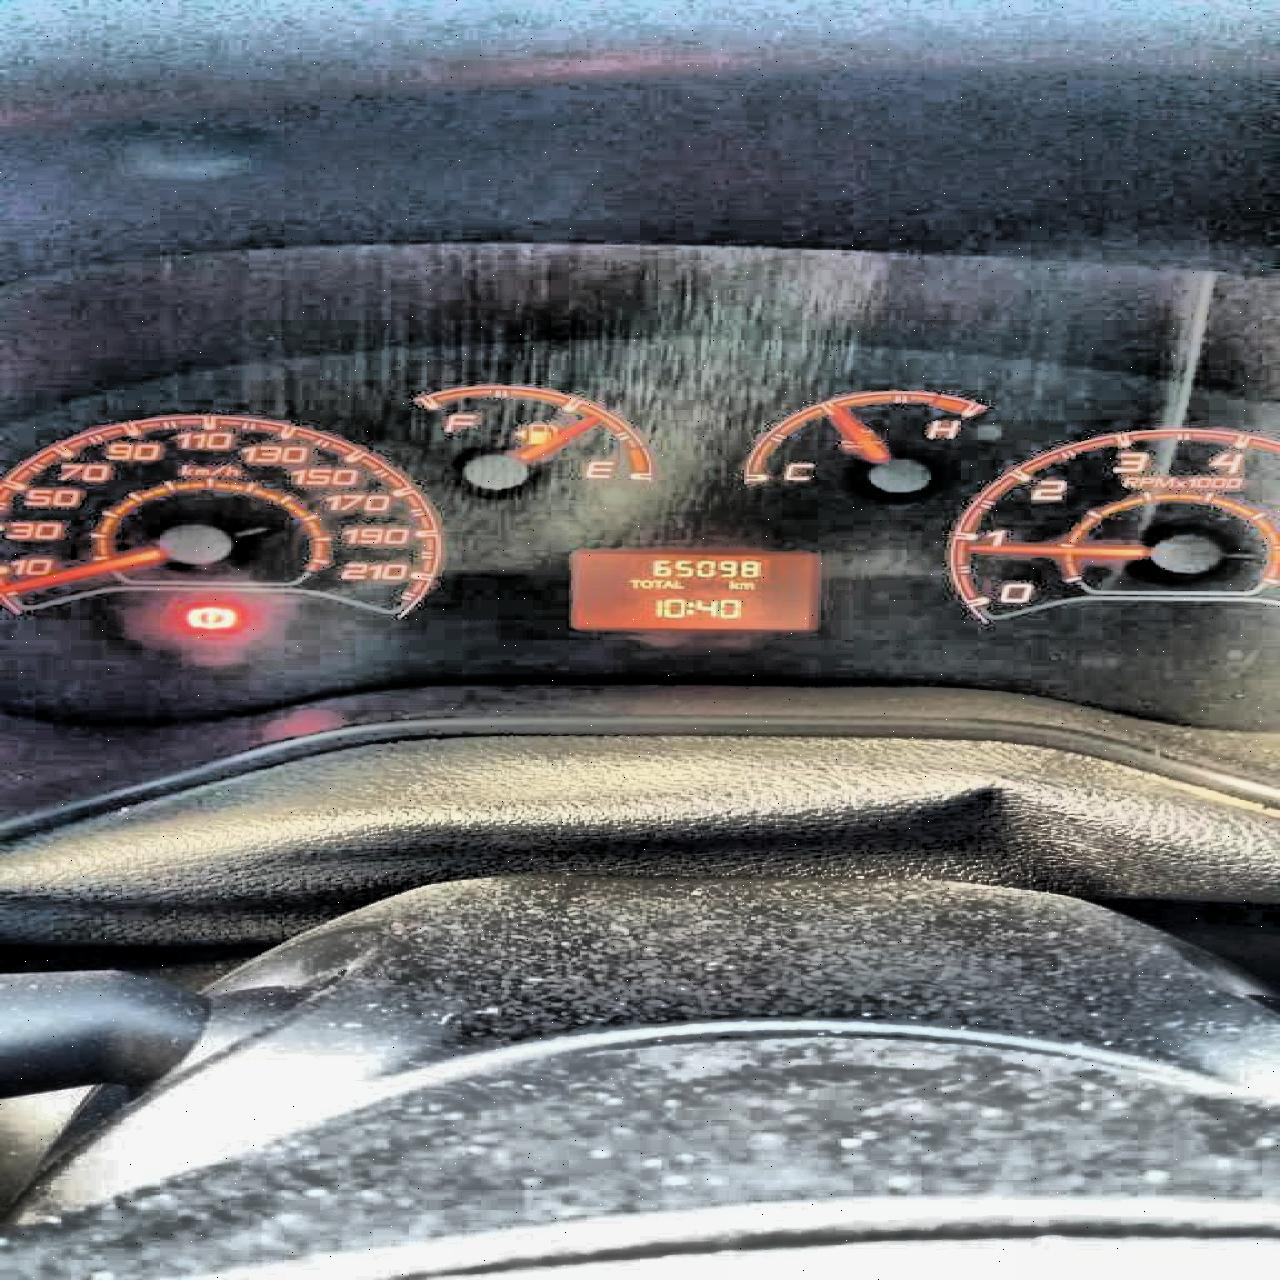0: (660, 598, 685, 618), (716, 598, 741, 618), (695, 559, 714, 577)
1: (654, 598, 662, 618)
4: (694, 599, 715, 617)
5: (674, 559, 694, 577)
6: (651, 559, 670, 577)
8: (738, 560, 758, 576)
9: (715, 560, 737, 578)
X: (685, 600, 695, 614), (737, 581, 754, 588), (638, 579, 652, 587), (670, 579, 682, 587), (626, 579, 638, 587), (727, 580, 737, 588), (660, 579, 670, 587), (651, 579, 660, 587)
odometer: (567, 547, 821, 632)
